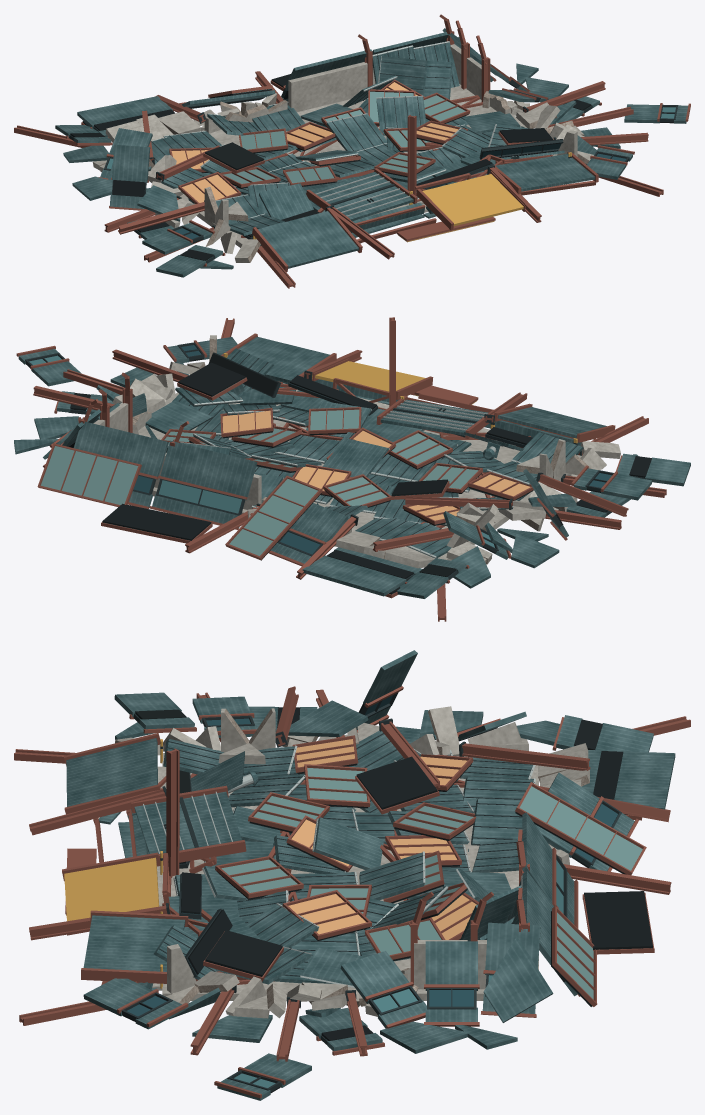
The model's file is MarineWorks_Ruins.glb.
3 renders of one model, top to bottom at view 1: azimuth 30°, elevation 25°; view 2: azimuth 150°, elevation 25°; view 3: azimuth 270°, elevation 25°, orthographic. The views are drawn at different scales.
Visible parts, largest first — view 1: MarineWorks_Geometry; view 2: MarineWorks_Geometry; view 3: MarineWorks_Geometry.
Boxes of the visible parts, x1,y1,x2,y2 form: MarineWorks_Geometry: [14, 14, 690, 288]; MarineWorks_Geometry: [14, 317, 690, 621]; MarineWorks_Geometry: [14, 650, 690, 1100].
Bounding box in the file's own units: 35.47 × 5.37 × 24.99.
Materials: 13 (4 with a texture image).
